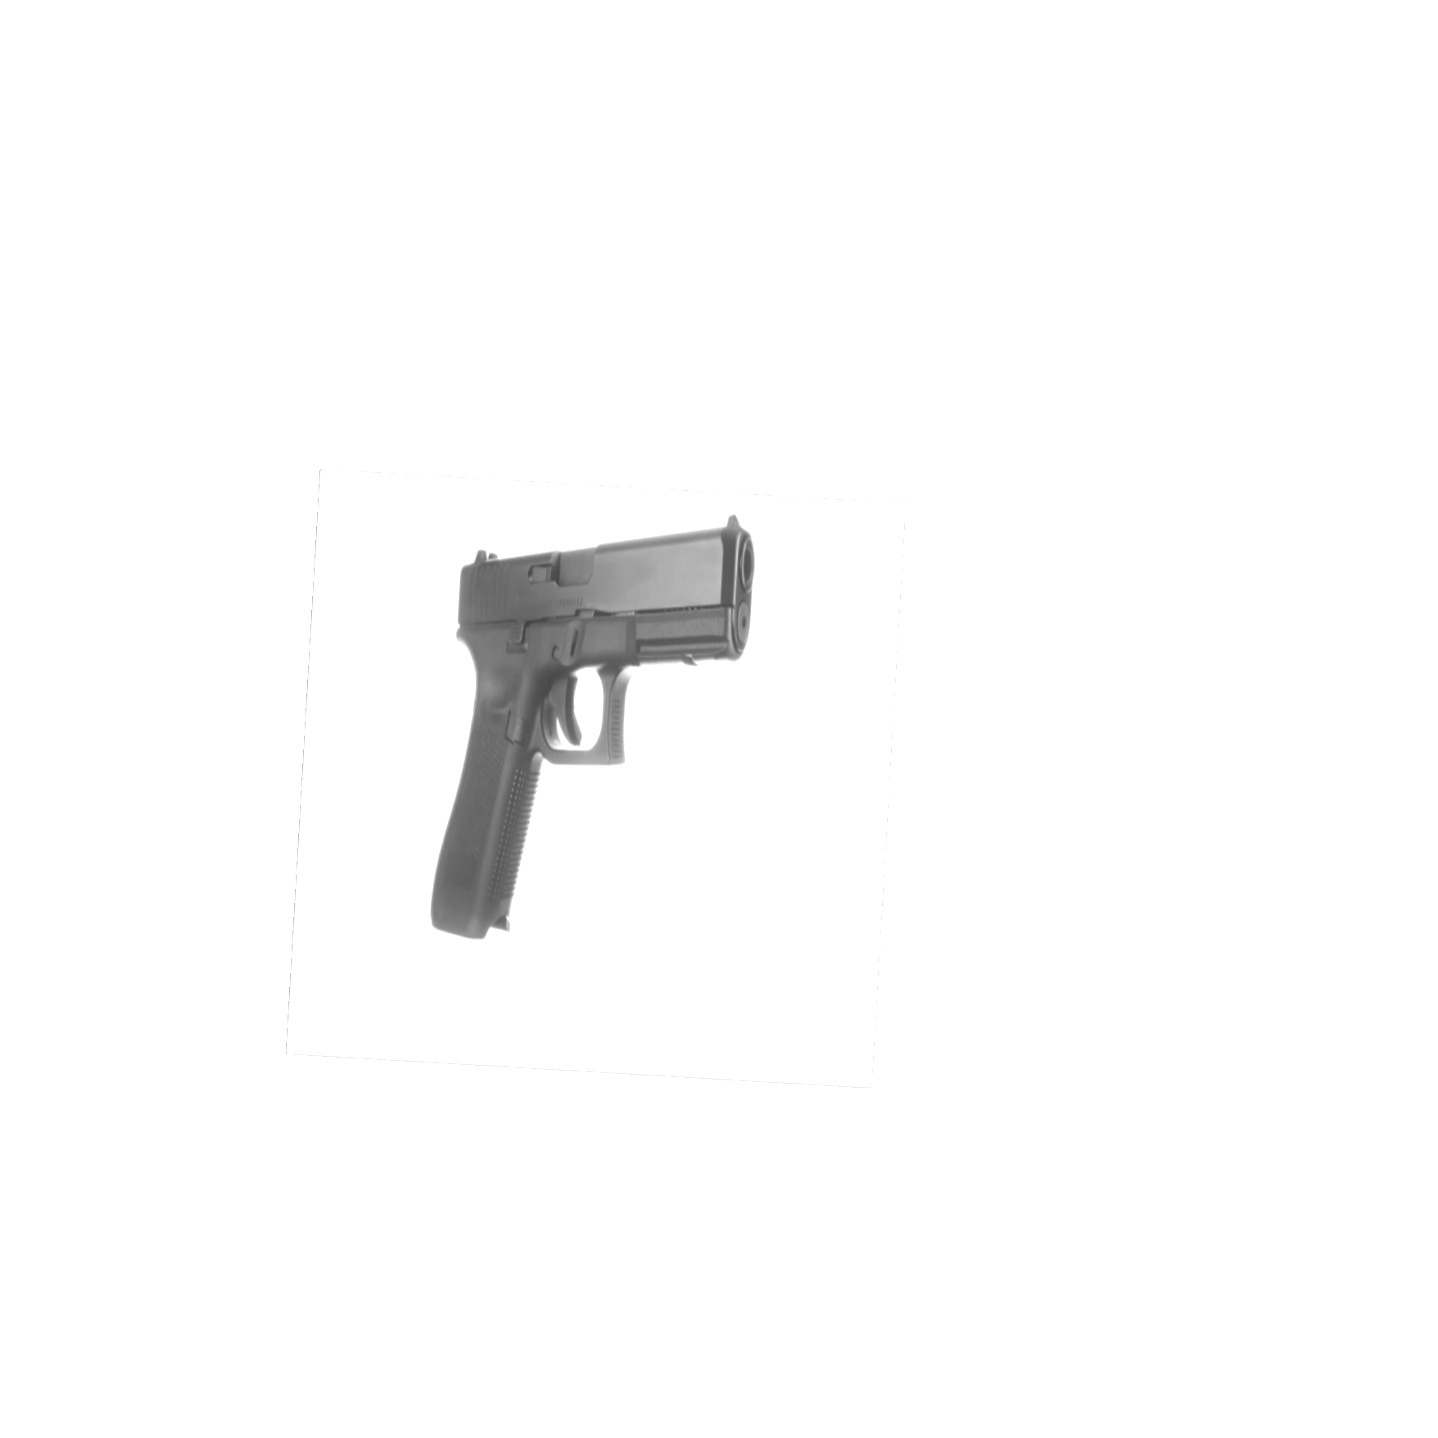gun: (417, 503, 766, 951)
